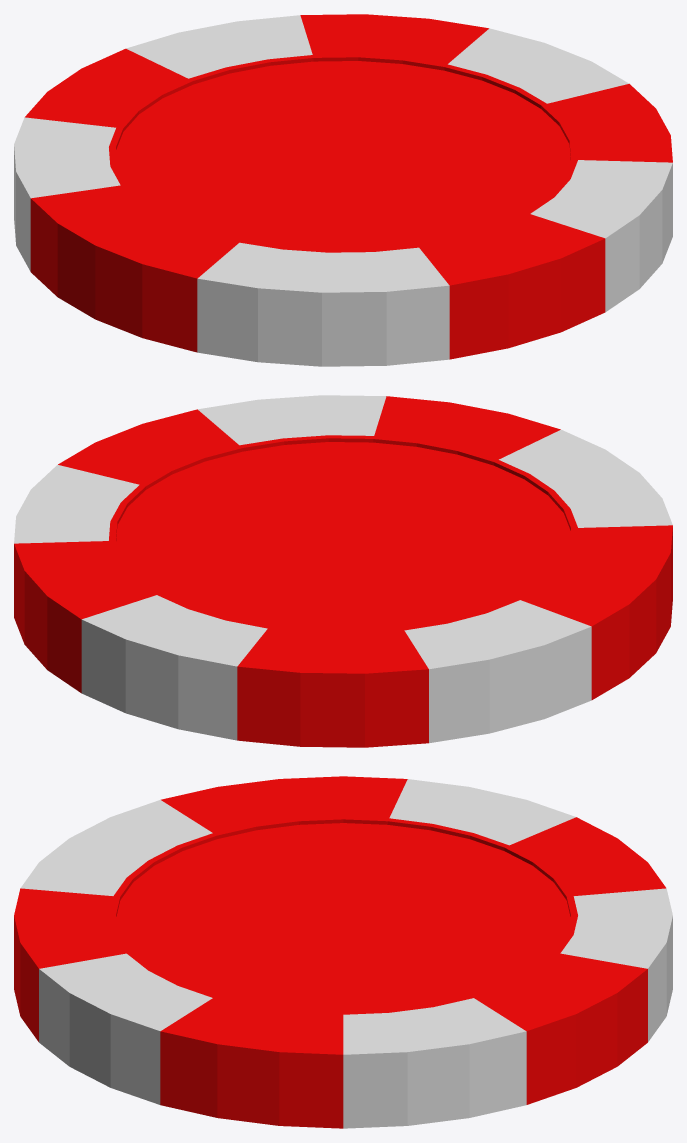
Rendered from Poker chip.obj.
The picture shows the model from 3 angles, top to bottom: view 1: azimuth 30°, elevation 25°; view 2: azimuth 150°, elevation 25°; view 3: azimuth 270°, elevation 25°; orthographic projection.
Parts seen in each view (by area): view 1: Cylinder001; view 2: Cylinder001; view 3: Cylinder001.
Boxes of the visible parts, box(x1,y1,x2,y2) form: Cylinder001: box(14, 14, 672, 366); Cylinder001: box(14, 395, 672, 747); Cylinder001: box(14, 776, 672, 1128).
Size of the model in its own units: 491951 by 60824 by 491951.
